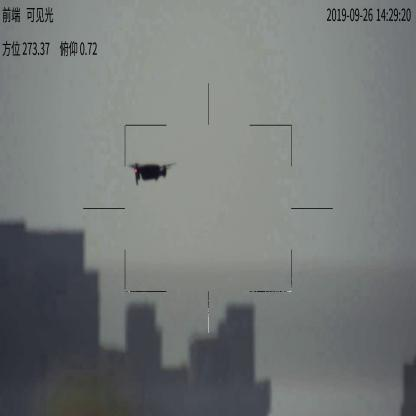uav: (124, 158, 175, 183)
